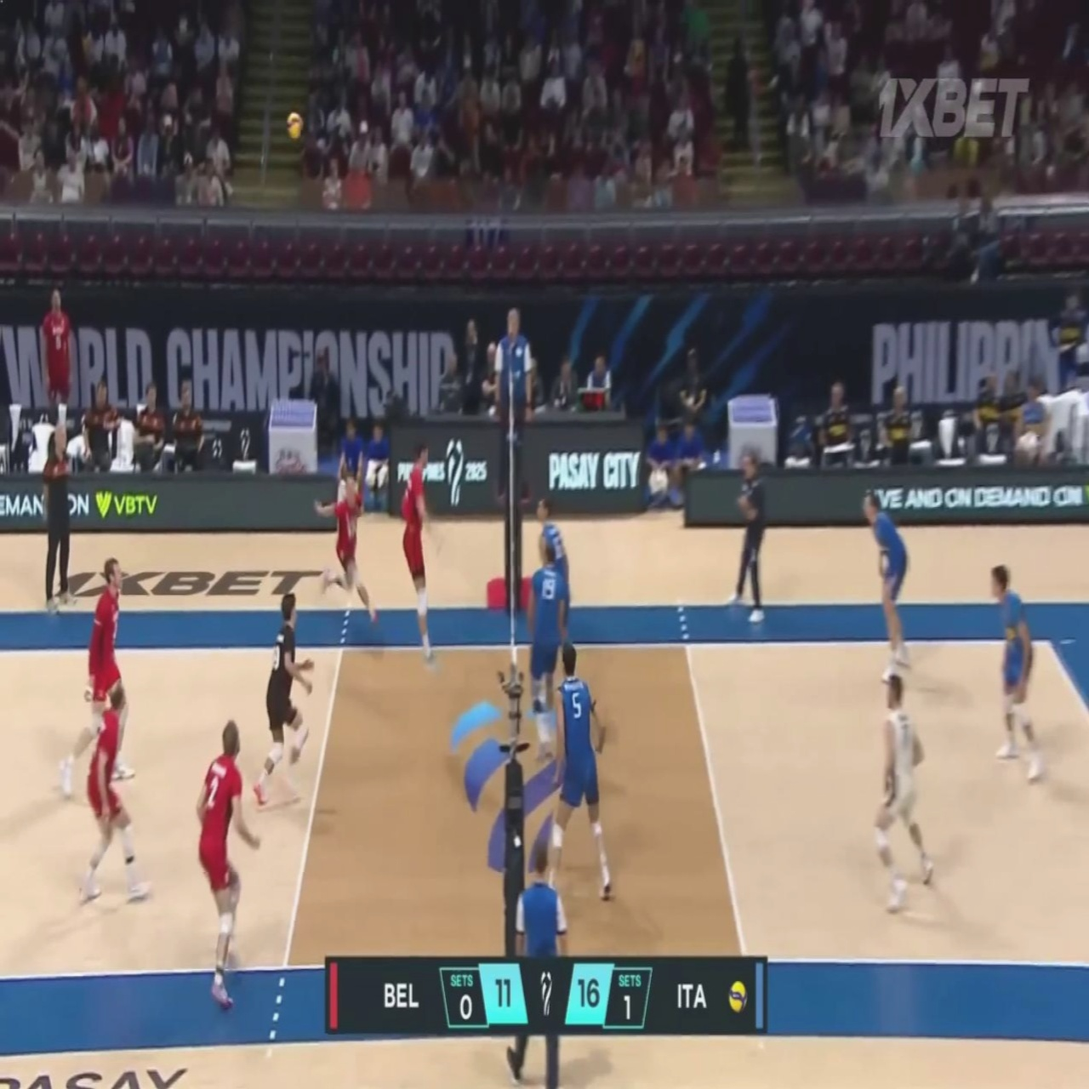ball: (286, 113, 302, 138)
